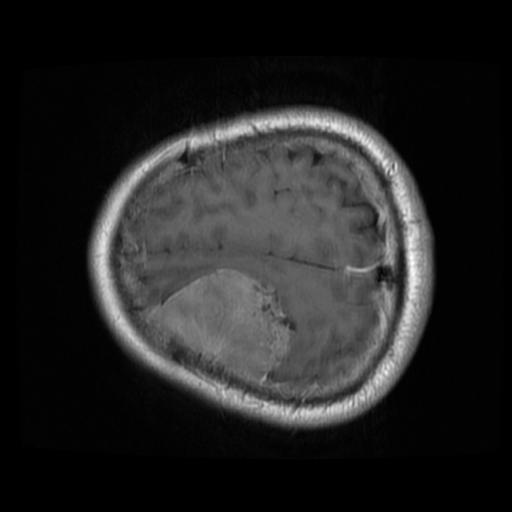meningioma: (146, 269, 293, 388)
